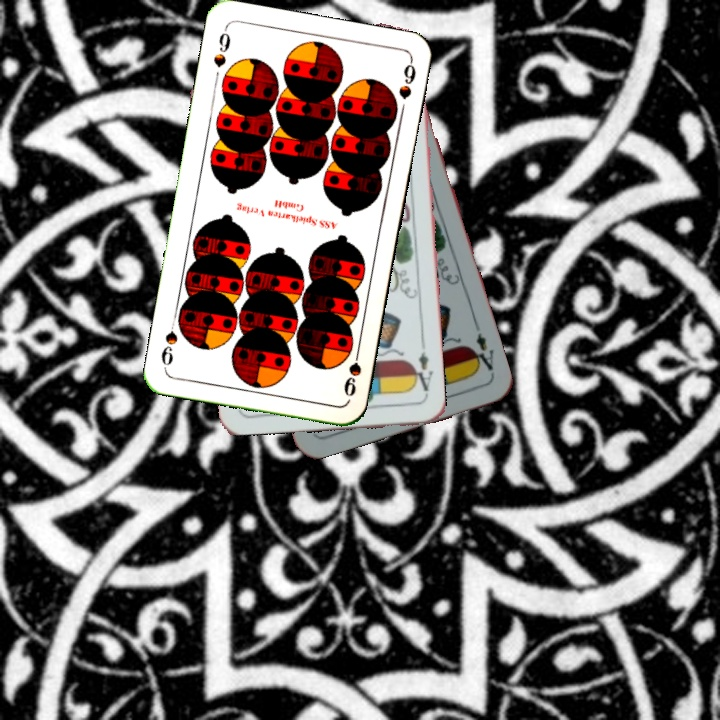EA: (466, 328, 498, 378), (408, 348, 436, 399)
S9: (339, 342, 364, 399), (209, 24, 234, 70)
